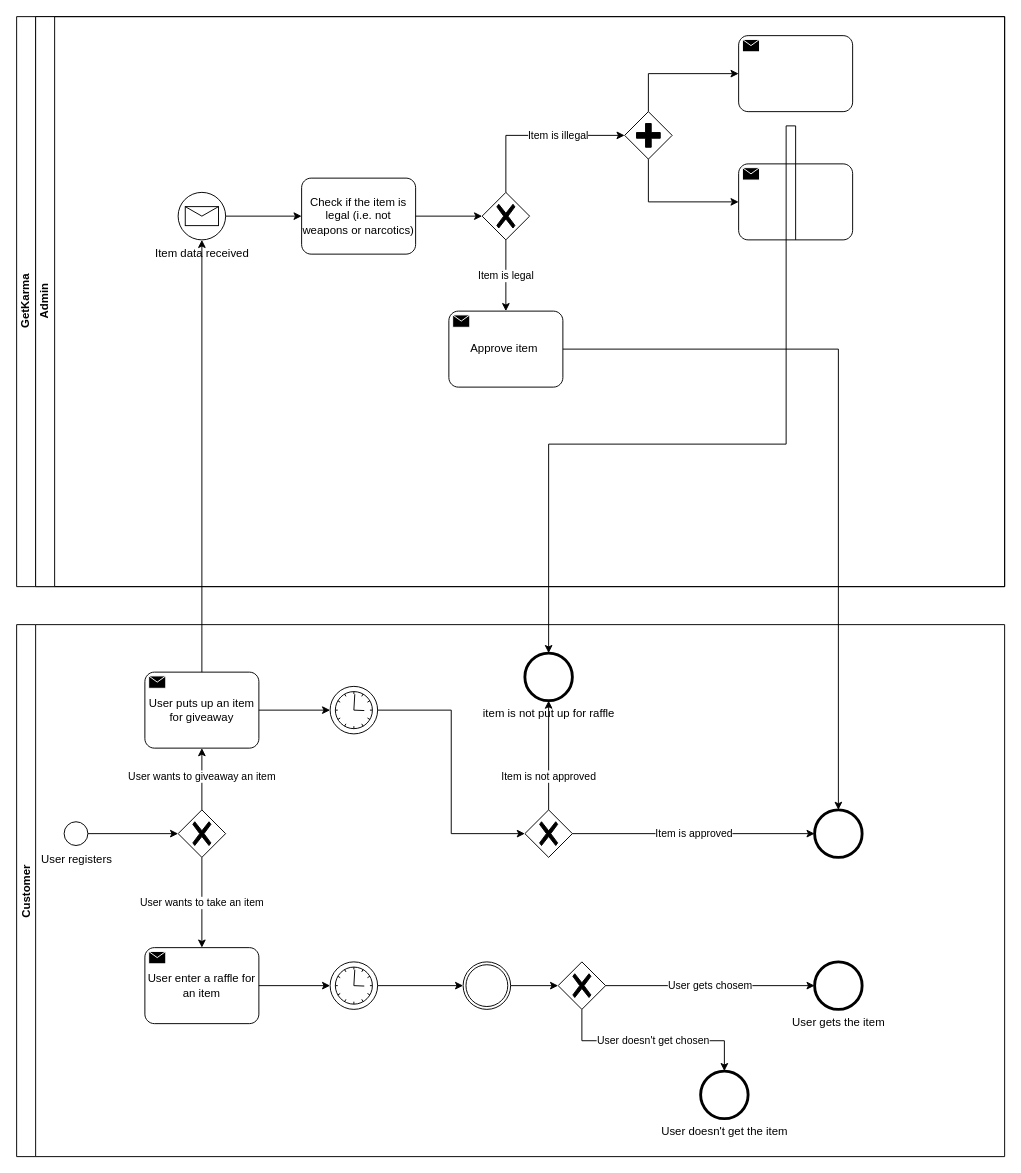
Some shapes in this 1021 by 1173 pixel diagram are drawn without their labels. The shapes that lost their labels are listed below. From the top down, each one's centre as x and y in pixels, then its label:
At point (795, 73): "Report to authorities".
At point (795, 201): "Deny user request".
At point (353, 709): "Wait for item To be aproved".
At point (838, 833): "Item is put up for raffle".
At point (353, 985): "Wait for raffle to end".
At point (486, 985): "Raffle ends".
